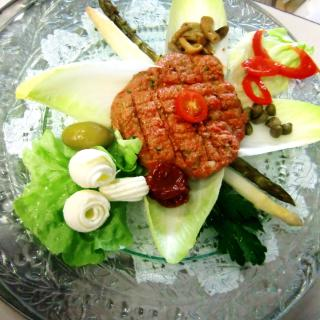tomato: (250, 26, 319, 78), (175, 88, 208, 123), (242, 53, 285, 78), (244, 72, 272, 105)
